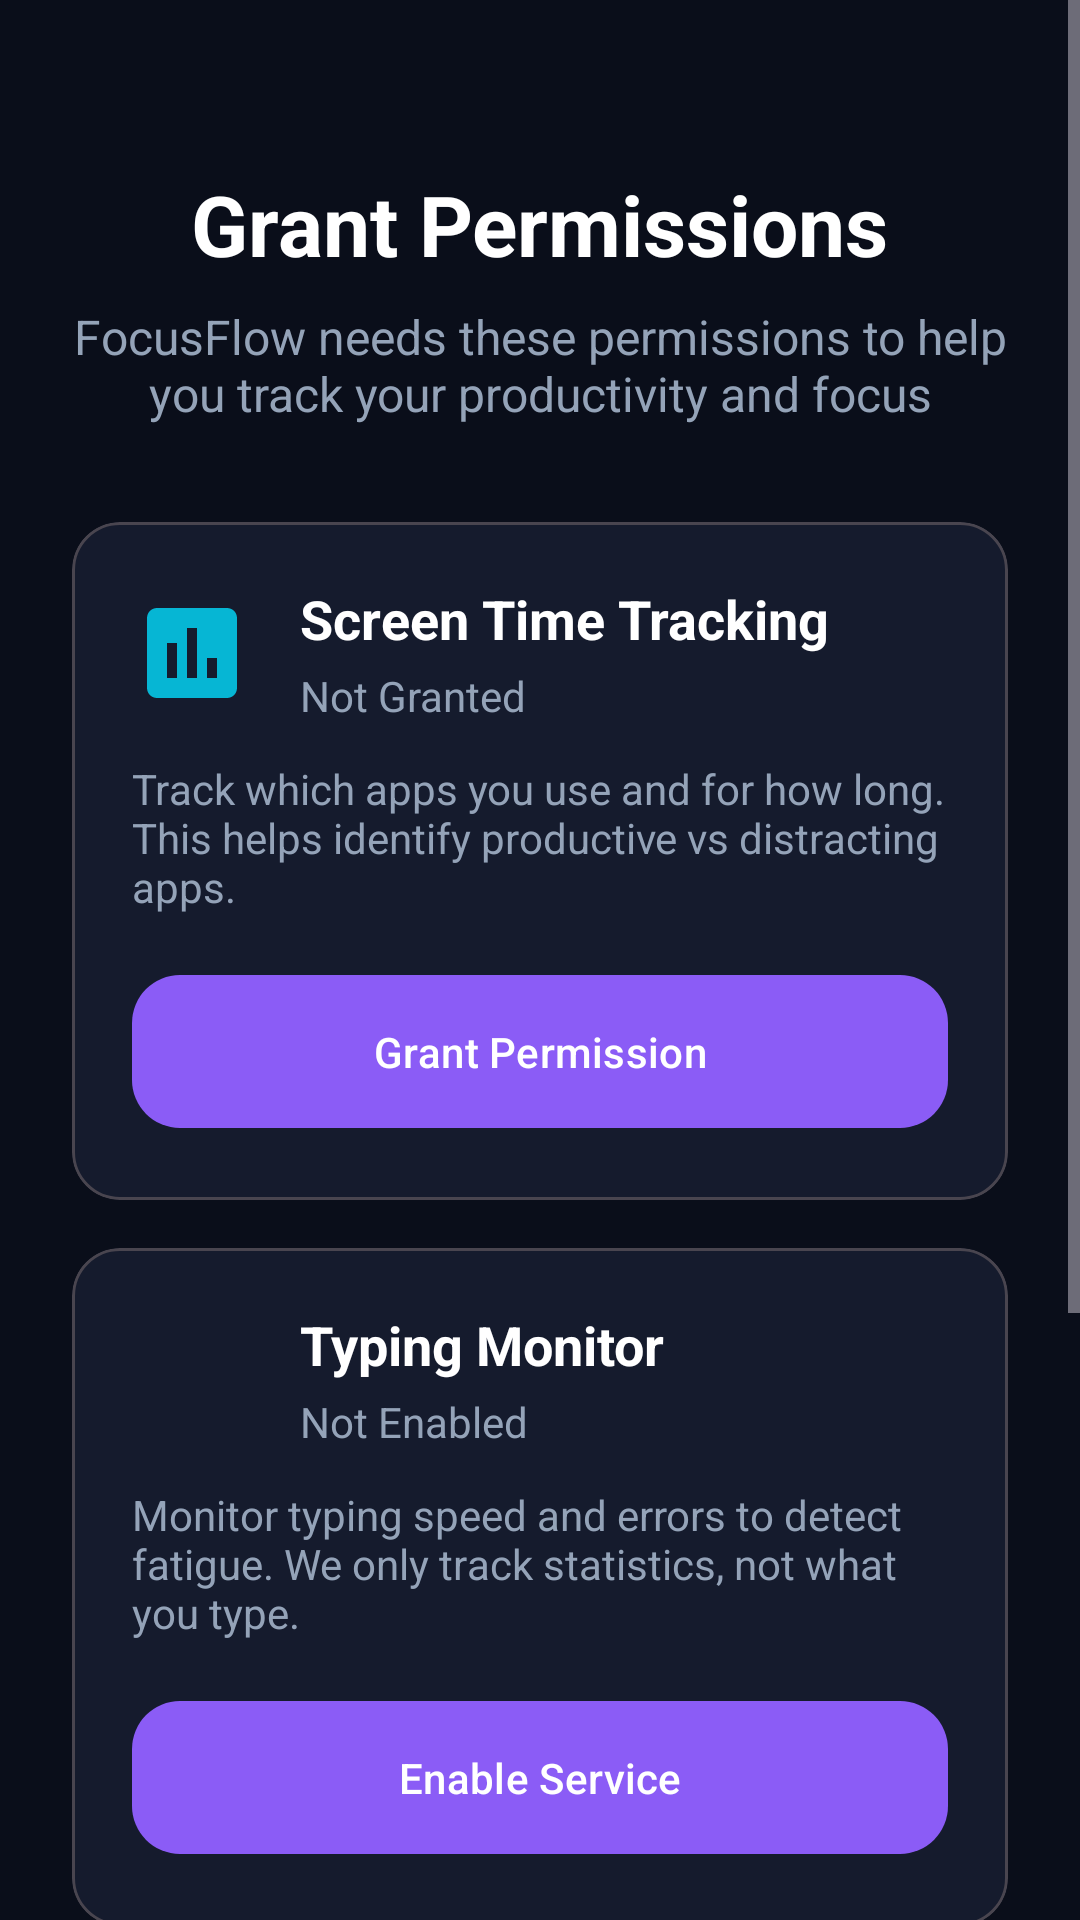

Locate icon controls on the screen. Image size 1080 x 1920, boxes as (x1,y1,x2,y2).
insights: (147,608,237,698)
